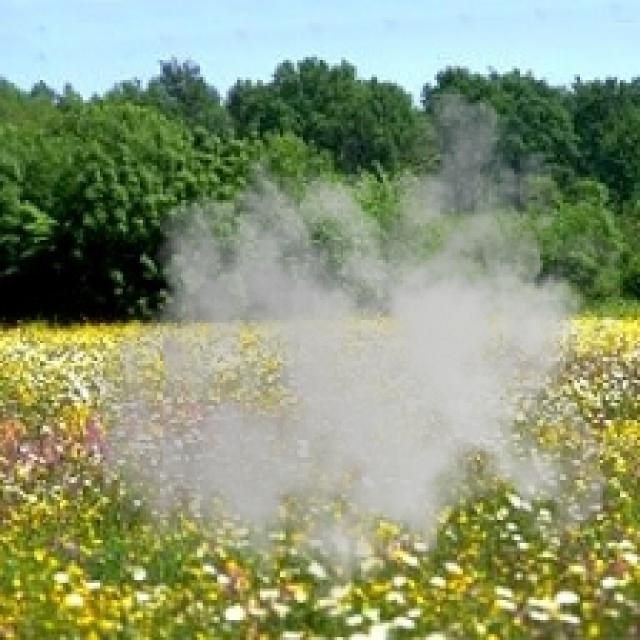smoke: (88, 94, 623, 637)
